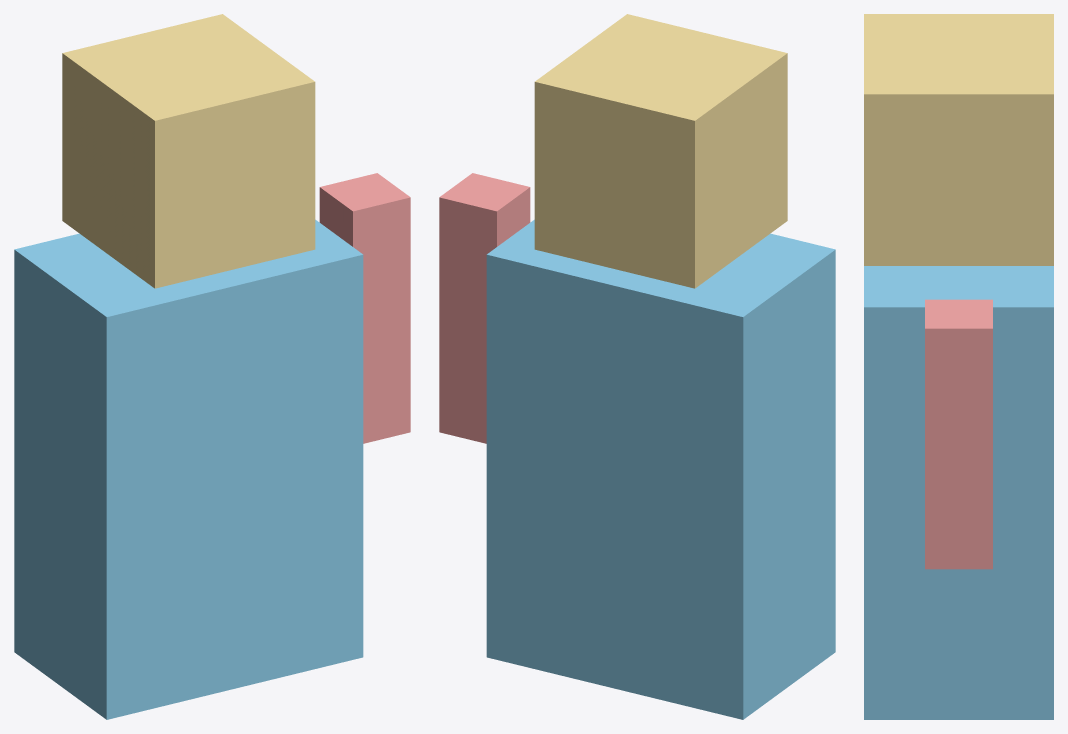
Rendered from robot.gltf.
The picture shows the model from 3 angles, left to right: view 1: azimuth 30°, elevation 25°; view 2: azimuth 150°, elevation 25°; view 3: azimuth 270°, elevation 25°; orthographic projection. The views are drawn at different scales.
Parts seen in each view (by area): view 1: Body, Head, Arm; view 2: Body, Head, Arm; view 3: Body, Head, Arm.
Boxes of the visible parts, left/top/right/bottom form: Body: left=14, top=219, right=363, bottom=719; Head: left=62, top=14, right=315, bottom=288; Arm: left=319, top=173, right=410, bottom=443; Body: left=486, top=219, right=835, bottom=719; Head: left=534, top=14, right=787, bottom=288; Arm: left=439, top=173, right=530, bottom=443; Body: left=864, top=266, right=1053, bottom=719; Head: left=864, top=14, right=1053, bottom=265; Arm: left=925, top=299, right=992, bottom=569.
Bounding box in the file's own units: 1.04 × 1.75 × 0.5.
